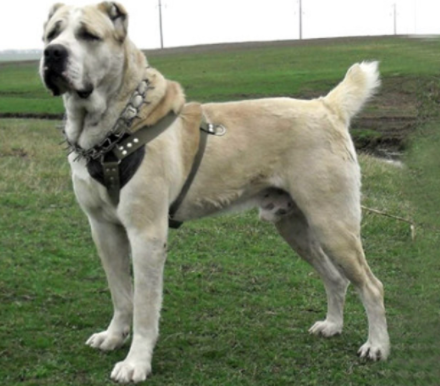dog: (36, 4, 393, 372)
